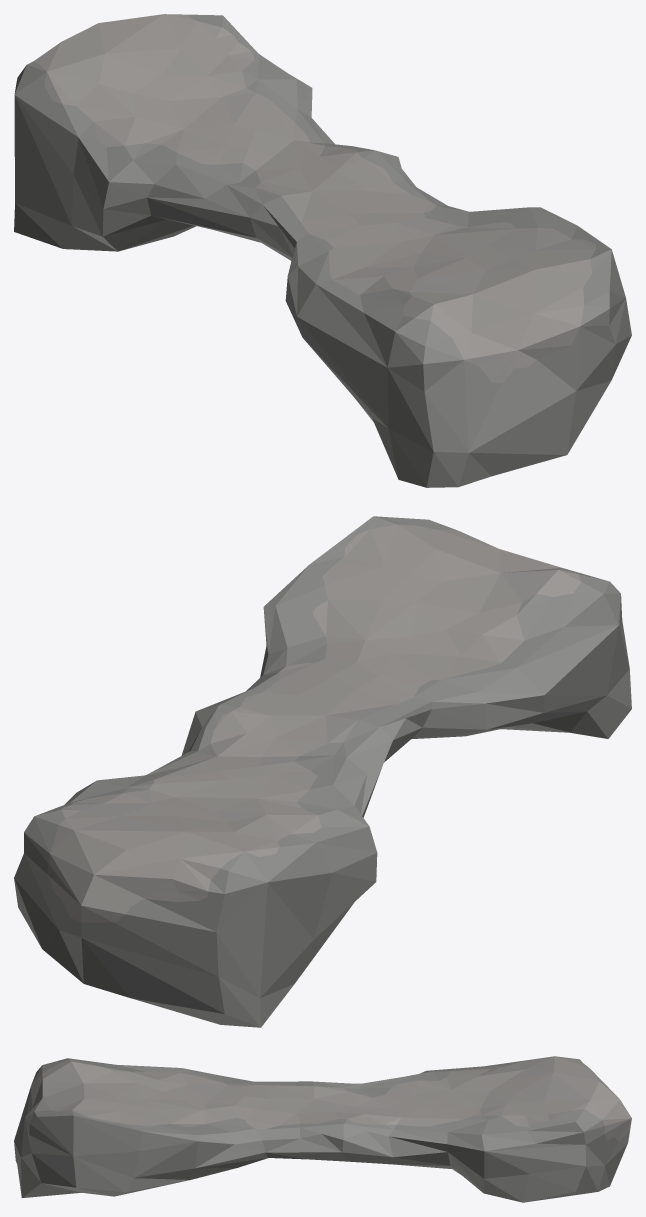
The model's file is Cavern_Floor_Narrow_Bridge_Lrg-01.fbx.
The picture shows the model from 3 angles, top to bottom: view 1: azimuth 30°, elevation 25°; view 2: azimuth 150°, elevation 25°; view 3: azimuth 270°, elevation 25°; orthographic projection. The views are drawn at different scales.
Visible parts, largest first — view 1: Cavern_Floor_Narrow_Bridge_Lrg-01; view 2: Cavern_Floor_Narrow_Bridge_Lrg-01; view 3: Cavern_Floor_Narrow_Bridge_Lrg-01.
Boxes of the visible parts, left/top/right/bottom form: Cavern_Floor_Narrow_Bridge_Lrg-01: left=14, top=14, right=631, bottom=487; Cavern_Floor_Narrow_Bridge_Lrg-01: left=14, top=516, right=631, bottom=1027; Cavern_Floor_Narrow_Bridge_Lrg-01: left=14, top=1056, right=631, bottom=1202.
Size of the model in its own units: 753 by 477 by 2020.
Materials: 1 (1 with a texture image).
